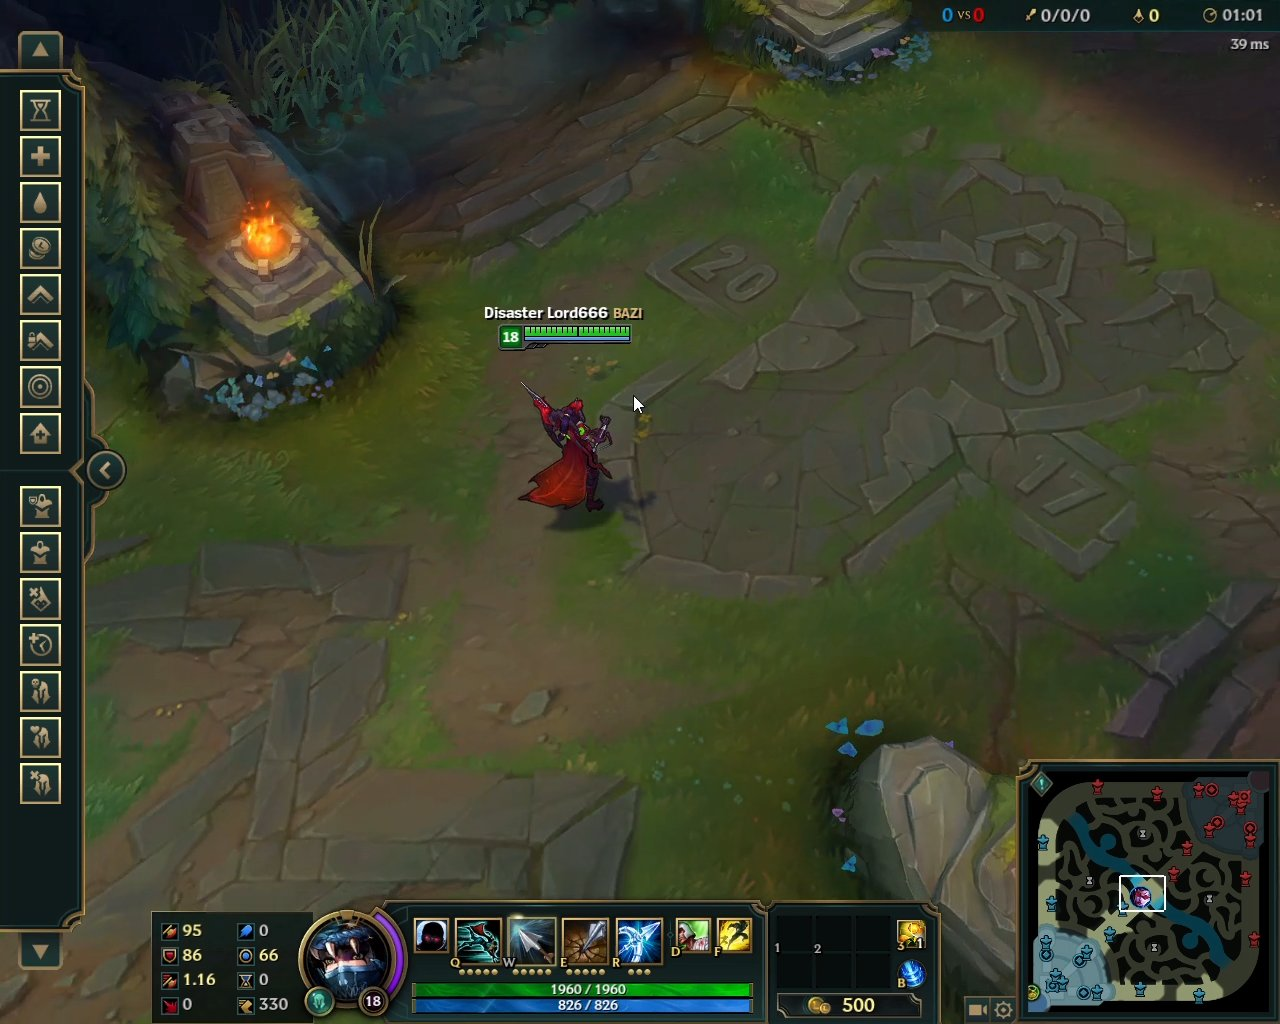Vayne: (505, 375, 623, 521)
